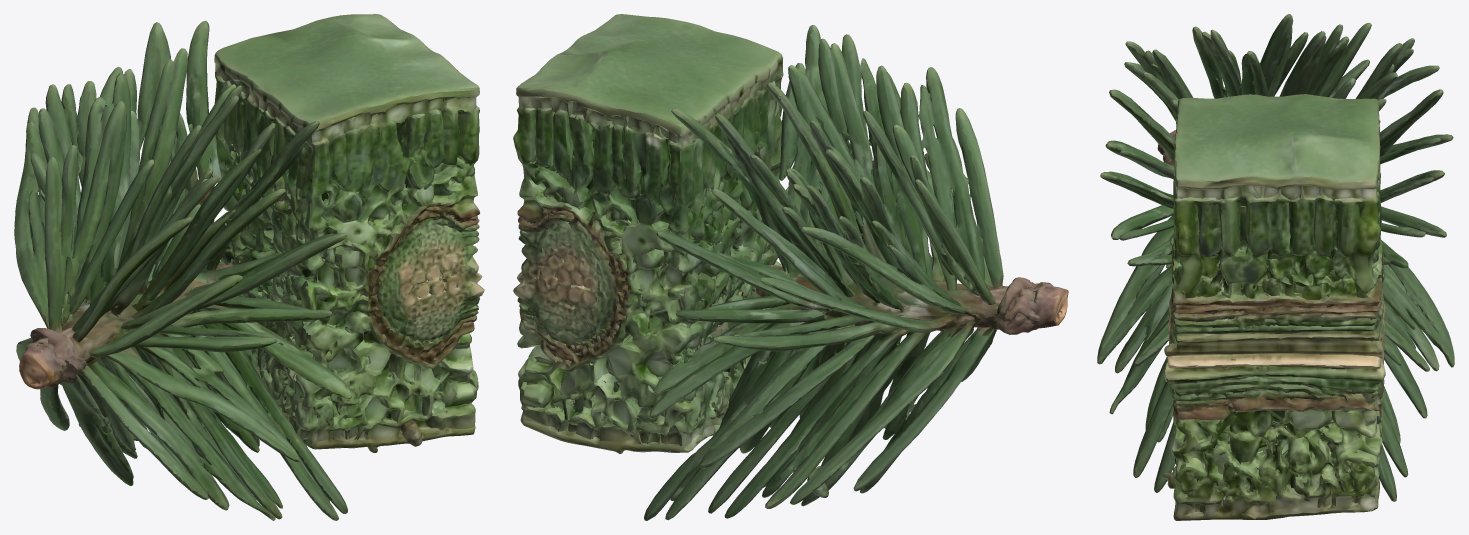
File: leaf-tissue-v8.glb
3 renders of one model, left to right at view 1: azimuth 30°, elevation 25°; view 2: azimuth 150°, elevation 25°; view 3: azimuth 270°, elevation 25°, orthographic.
Parts seen in each view (by area): view 1: geometry_0; view 2: geometry_0; view 3: geometry_0.
Part boxes in pixels (bbox=[...]): geometry_0: bbox=[14, 14, 484, 520]; geometry_0: bbox=[513, 14, 1068, 520]; geometry_0: bbox=[1097, 14, 1454, 520].
Bounding box in the file's own units: 0.1199 × 0.1106 × 0.0825.
Materials: 1 (1 with a texture image).
